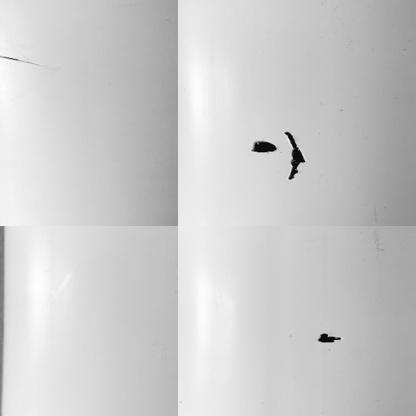kongdong: (282, 127, 307, 184), (252, 138, 277, 157), (315, 330, 340, 345)
sunshang: (1, 52, 53, 71)
